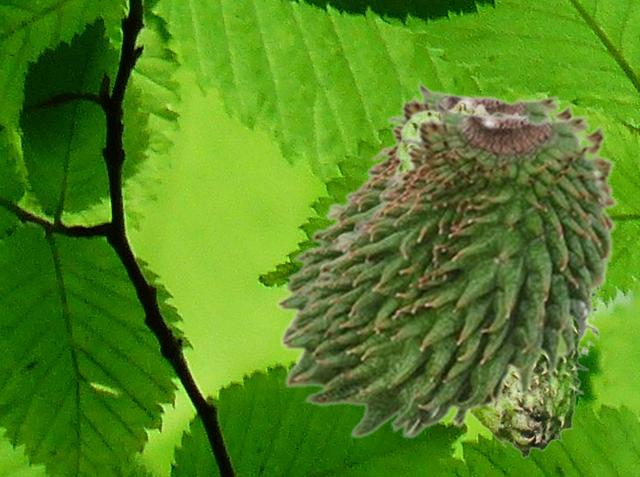guyabano: (278, 97, 619, 438), (274, 79, 577, 356), (393, 98, 603, 458)
